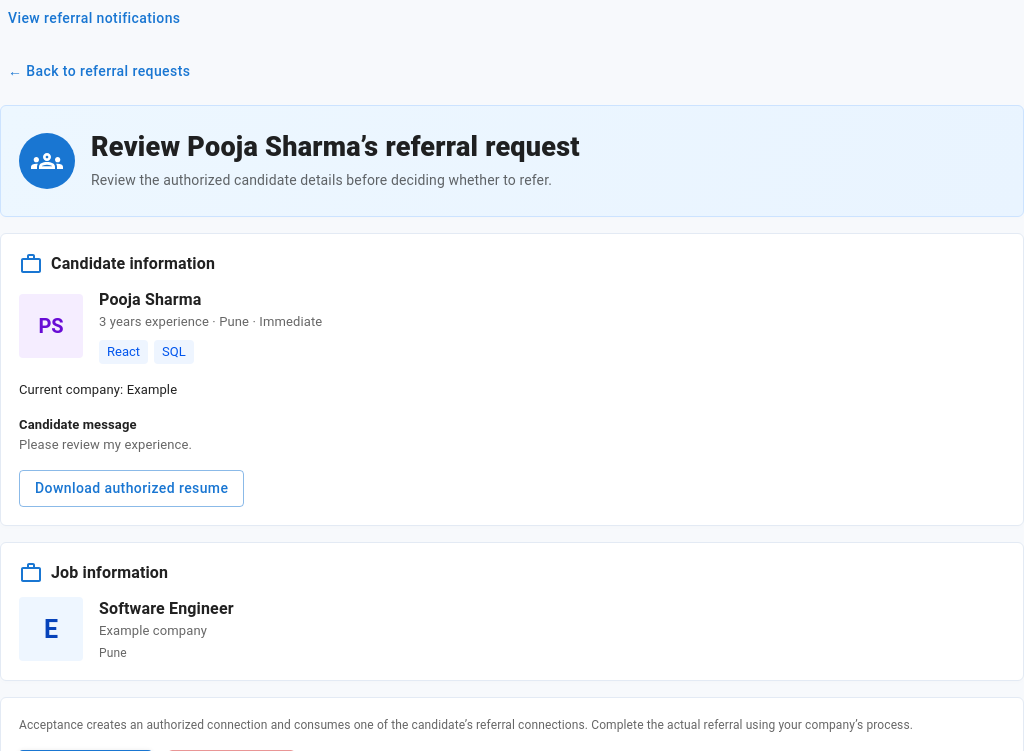
Scenario: referrer screens › requests an authorized resume only after an explicit download action
Click the button "Download authorized resume" at (132, 488), box [19,470,244,506]
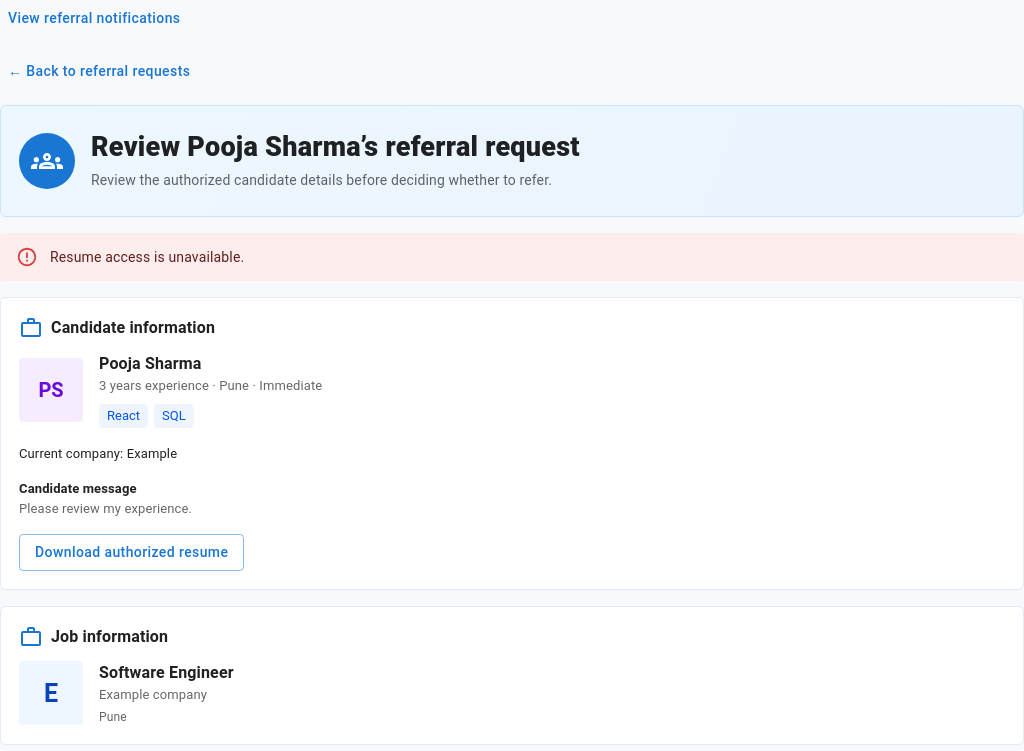
Now the text "Resume access is unavailable." is shown, box [50,249,244,265]
